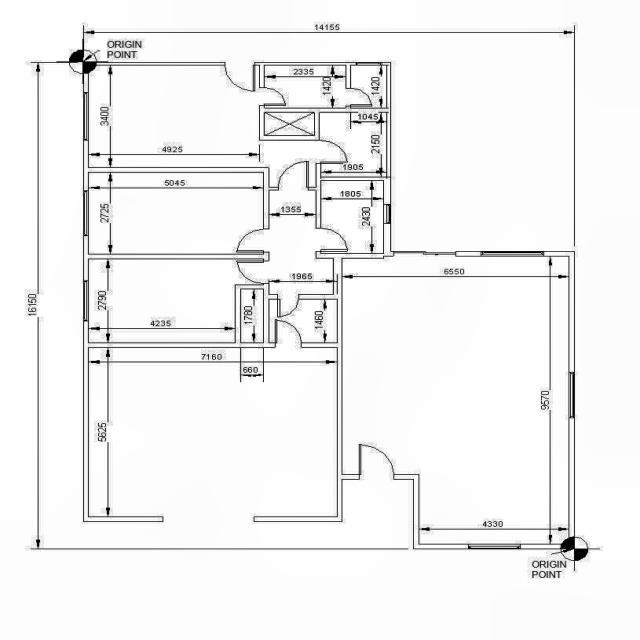Column: (568, 536, 574, 549)
Door: (358, 444, 394, 480), (224, 62, 260, 91), (278, 161, 308, 191), (236, 228, 270, 254), (236, 258, 270, 284), (316, 228, 348, 254), (274, 319, 302, 348), (316, 140, 348, 164), (345, 88, 373, 109), (259, 88, 286, 109), (277, 294, 299, 318)
Sliding Door: (394, 251, 456, 257)
Window: (480, 251, 544, 257), (468, 544, 521, 550), (83, 92, 89, 140), (83, 190, 89, 236), (568, 372, 574, 418), (83, 280, 89, 322), (383, 204, 391, 224), (356, 62, 382, 66)
